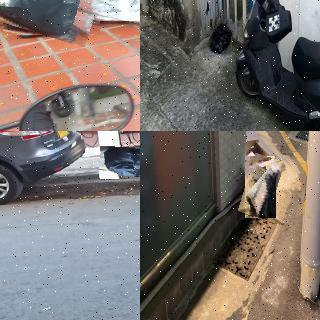Garbage: (0, 0, 105, 41), (241, 155, 280, 220), (79, 0, 140, 25), (99, 146, 140, 179), (207, 18, 235, 58), (131, 152, 140, 180)
